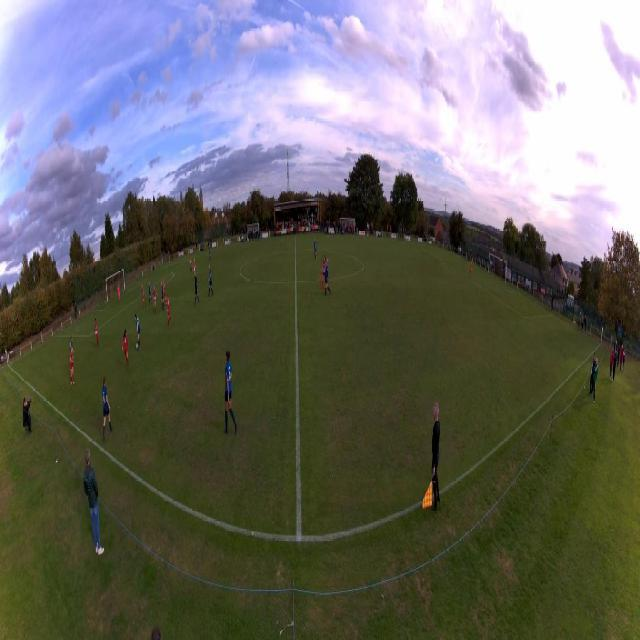ball: (136, 343, 139, 350)
player: (223, 348, 237, 435), (101, 375, 113, 442), (121, 328, 129, 366), (318, 254, 326, 289), (324, 258, 331, 296), (69, 347, 75, 385), (134, 313, 140, 350), (166, 295, 172, 329), (194, 272, 200, 306), (208, 263, 213, 297), (153, 287, 159, 315), (94, 318, 99, 348), (142, 284, 147, 310), (163, 279, 167, 308), (161, 281, 165, 310), (313, 237, 317, 263), (149, 282, 153, 306), (70, 337, 75, 355), (193, 259, 197, 278), (470, 261, 473, 281), (189, 255, 192, 272), (118, 286, 121, 302), (209, 245, 211, 261)
